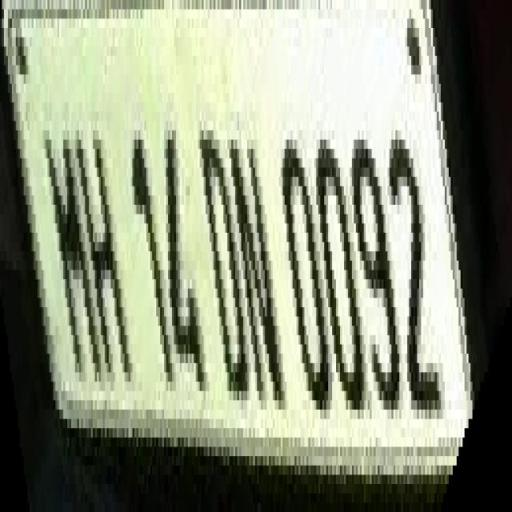number plate: (17, 0, 512, 474)
